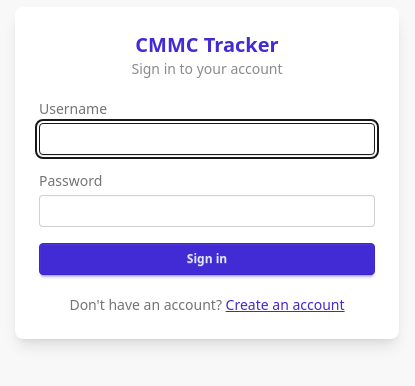
LoginPage › shows validation when submitting empty form
The width and height of the screenshot is (415, 386).
Click the button "Sign in" at (207, 259), box [39, 243, 375, 275]
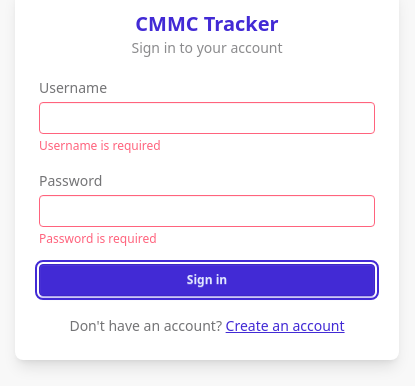
Check: the text "Username is required" is shown, box [39, 137, 161, 154]
Check: the text "Password is required" is shown, box [39, 230, 157, 247]
